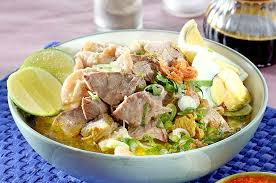soto: (18, 23, 265, 167)
